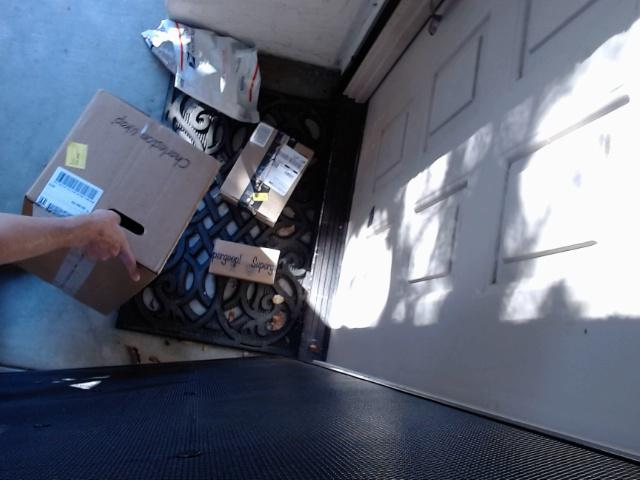box: (13, 88, 221, 317), (221, 122, 314, 228), (208, 238, 281, 286)
plastic_bag: (139, 19, 260, 122)
